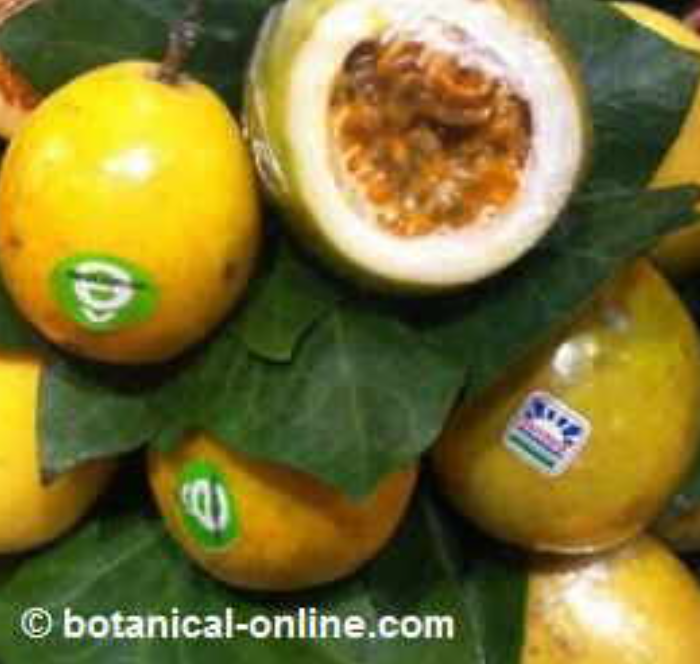maracuya: (1, 47, 264, 378)
